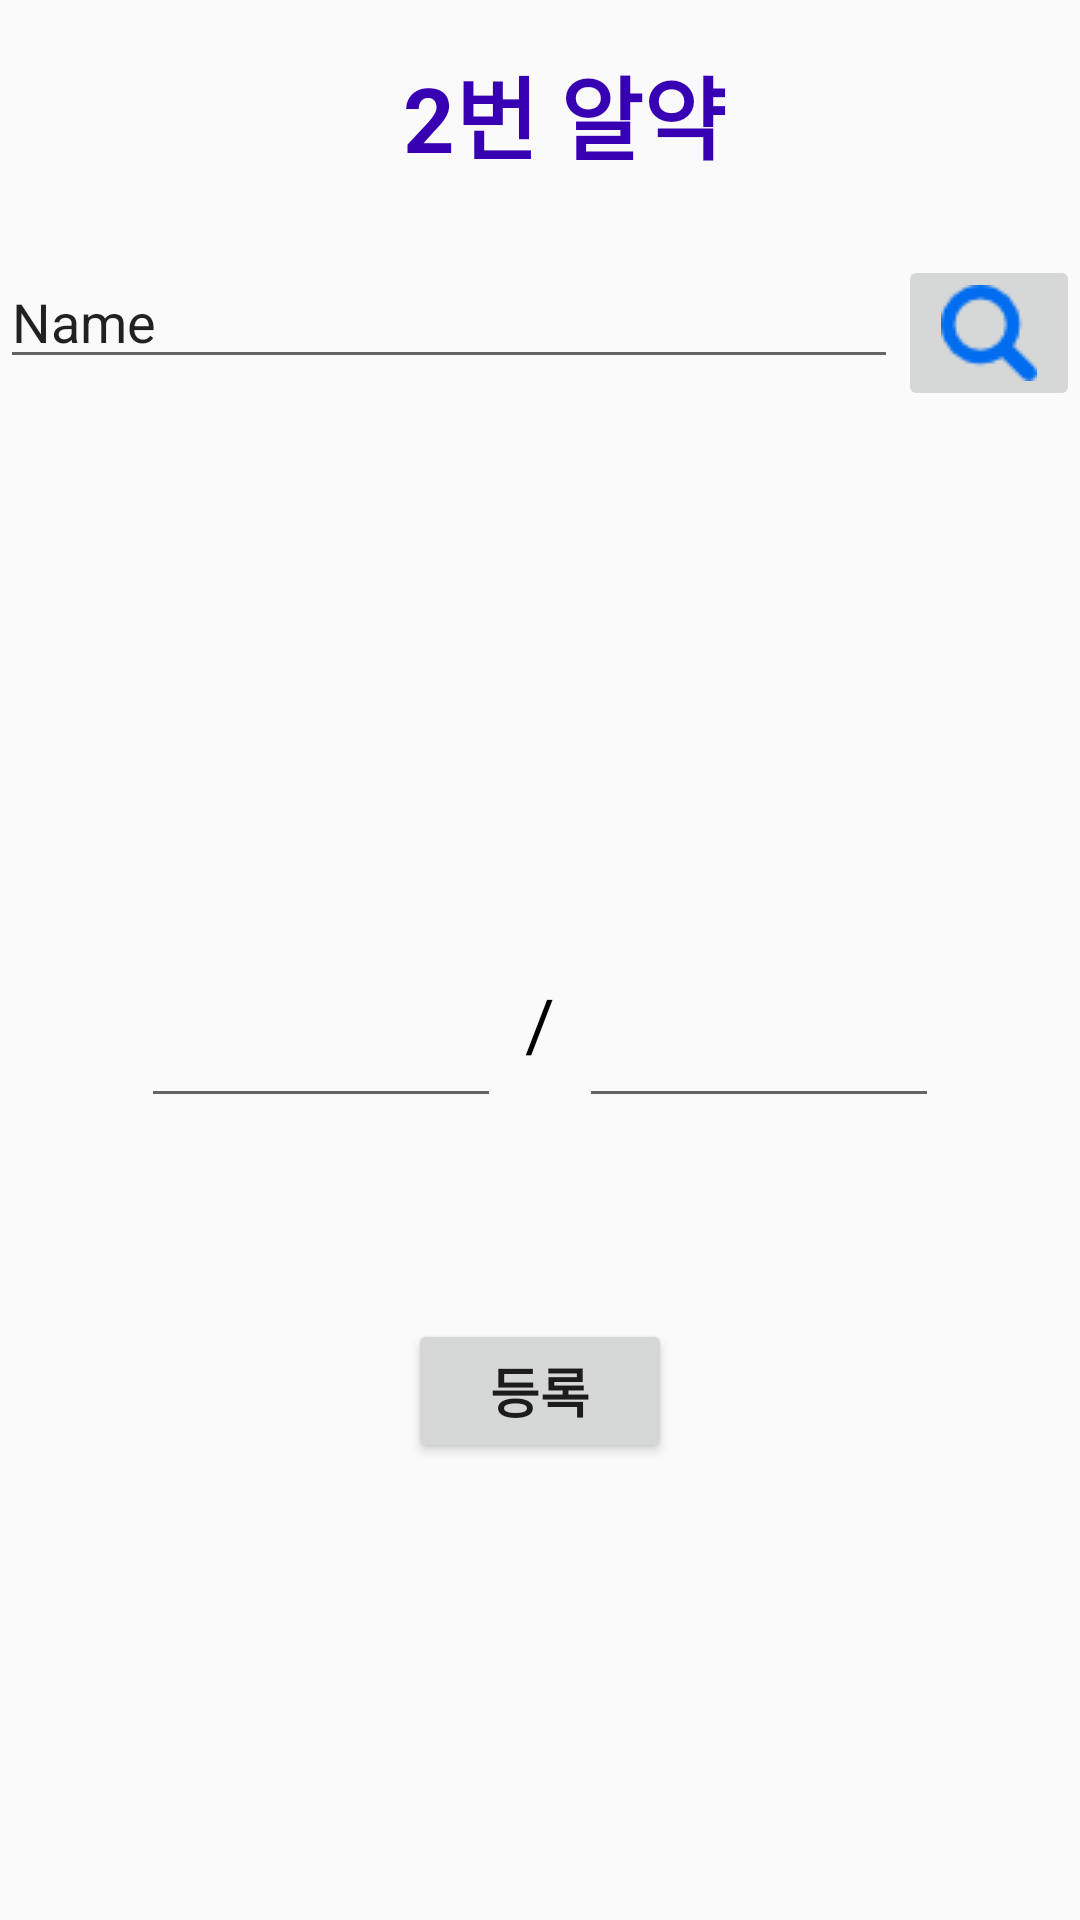

Icons on this 1080px x 1920px Android screen, each with the point to tap as [x,y]:
search: [989,333]
